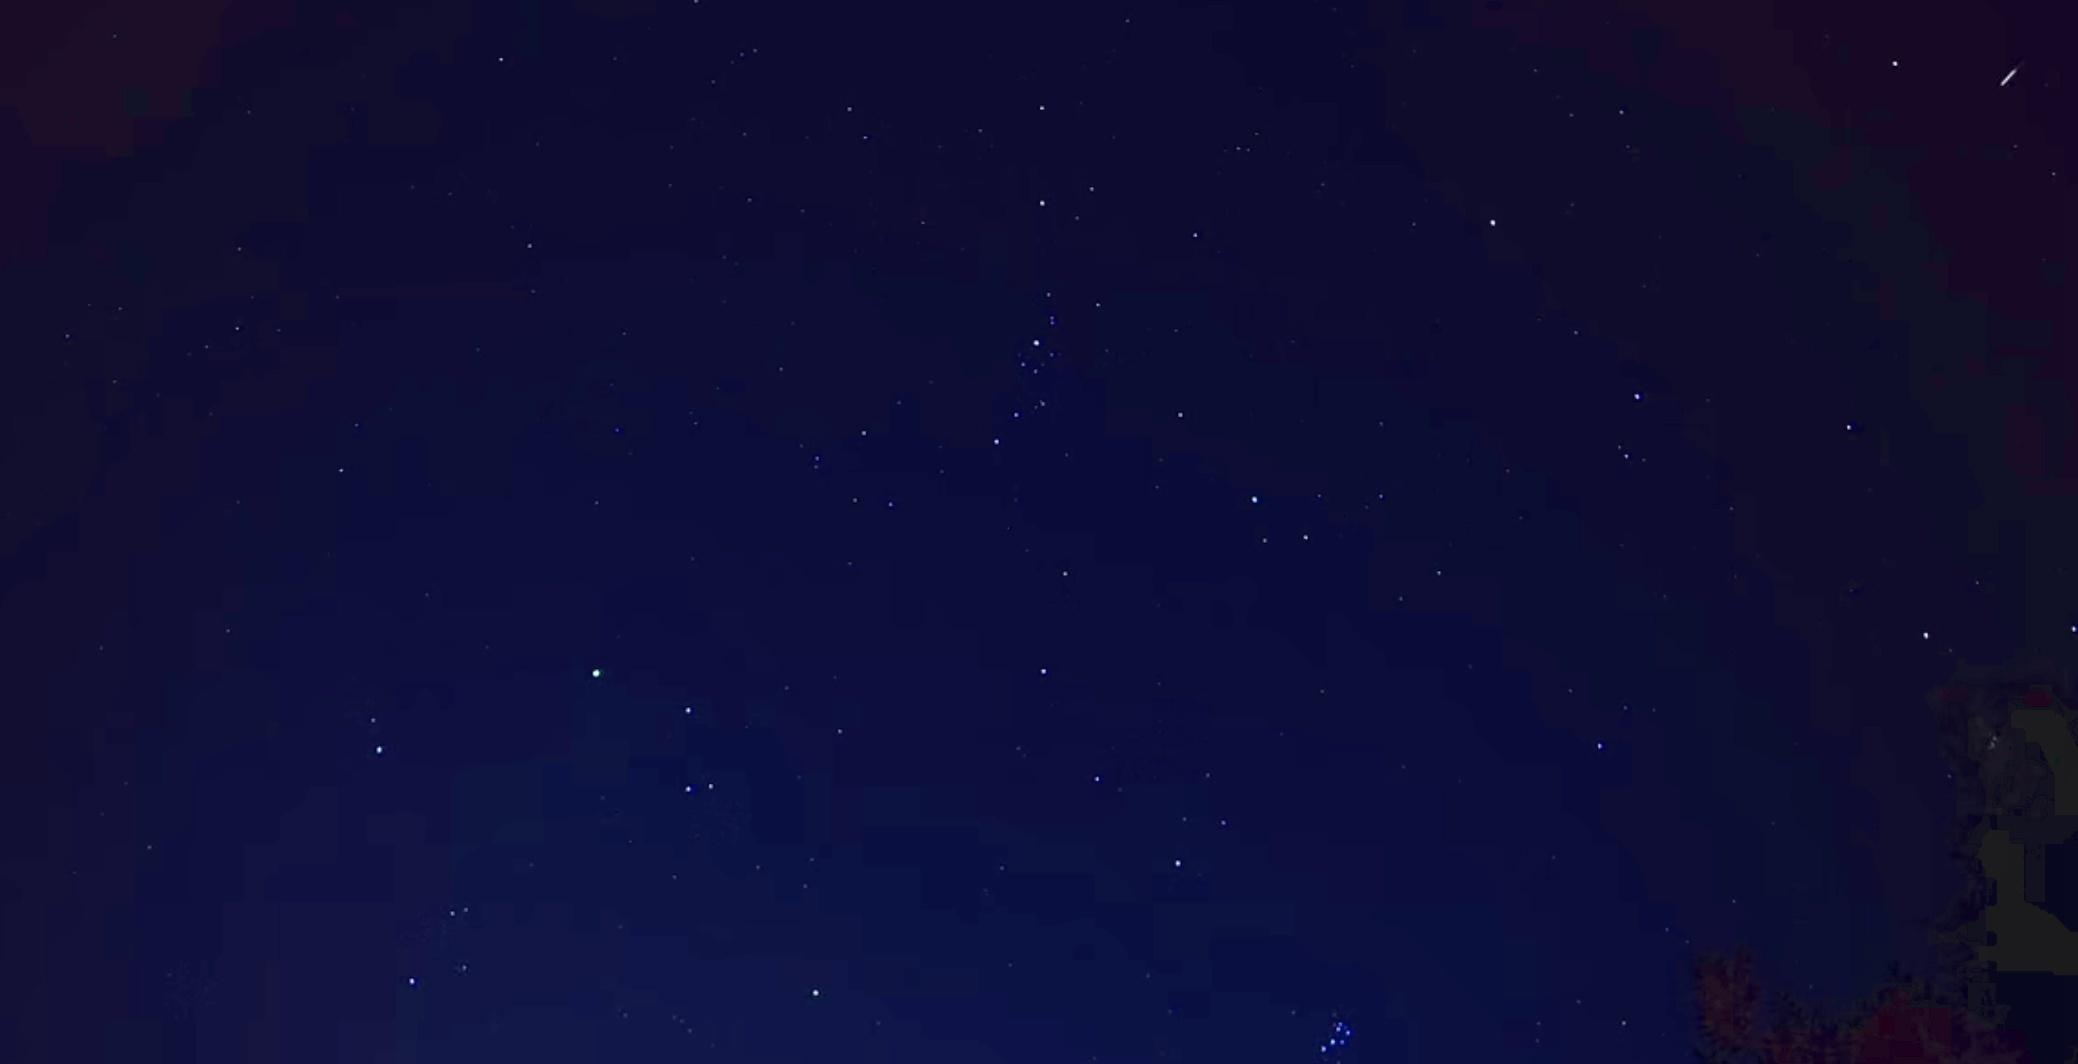meteorite: (1961, 53, 2060, 98)
